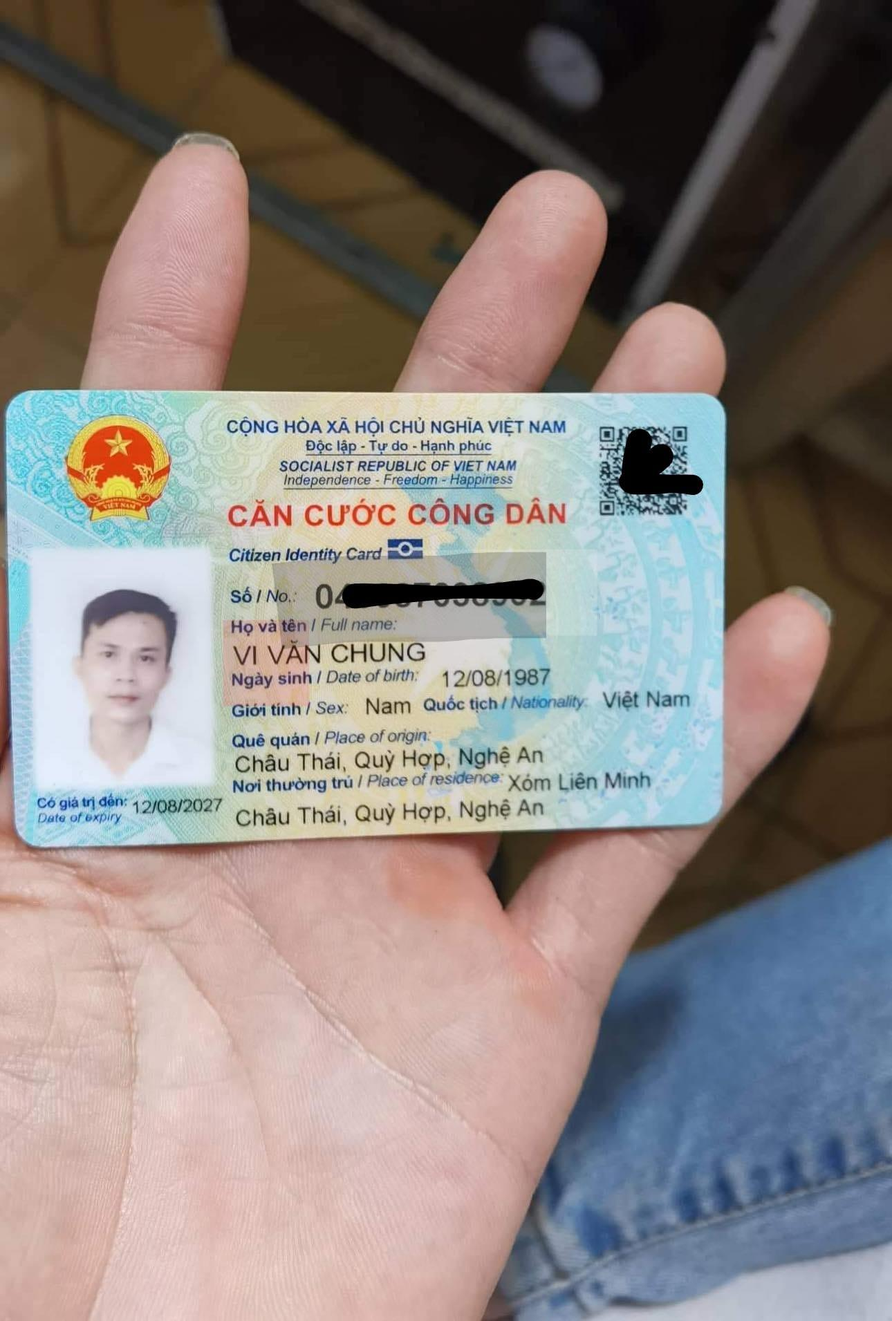bottom_left: (5, 804, 41, 860)
bottom_right: (701, 799, 733, 833)
image_person: (30, 553, 219, 788)
top_left: (0, 380, 32, 421)
top_right: (687, 383, 734, 439)
